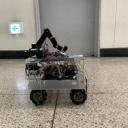cart: (23, 52, 88, 106)
